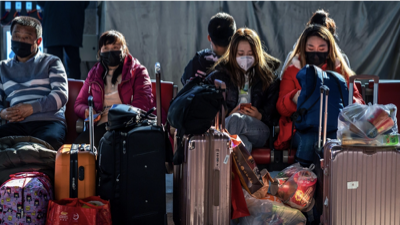with_mask: (11, 28, 37, 57), (100, 42, 124, 67), (304, 42, 329, 64), (236, 48, 255, 70)
